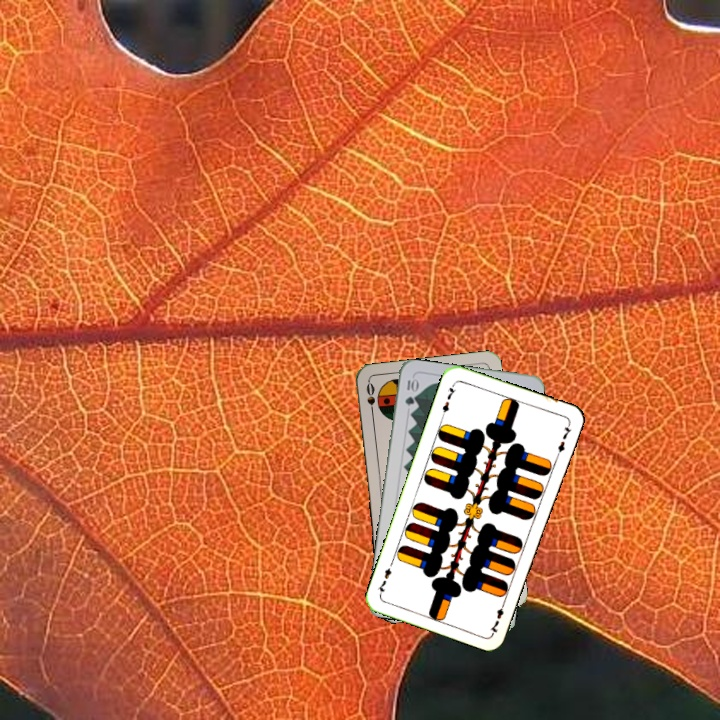E7: (486, 597, 508, 636), (438, 379, 459, 419)
G10: (401, 374, 419, 408)
SO: (362, 379, 377, 419)
